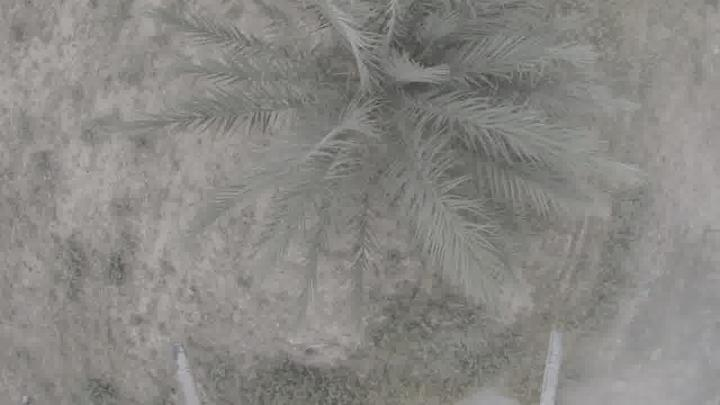Date-Palm-Crown: (280, 9, 528, 251)
